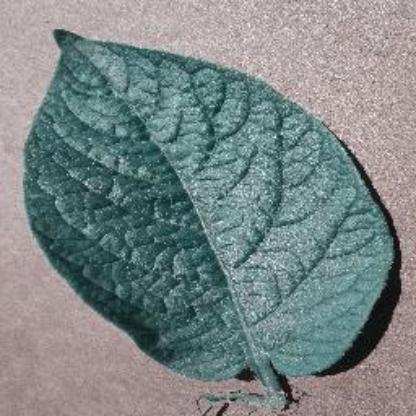Healthy-plant: (23, 23, 403, 415)
